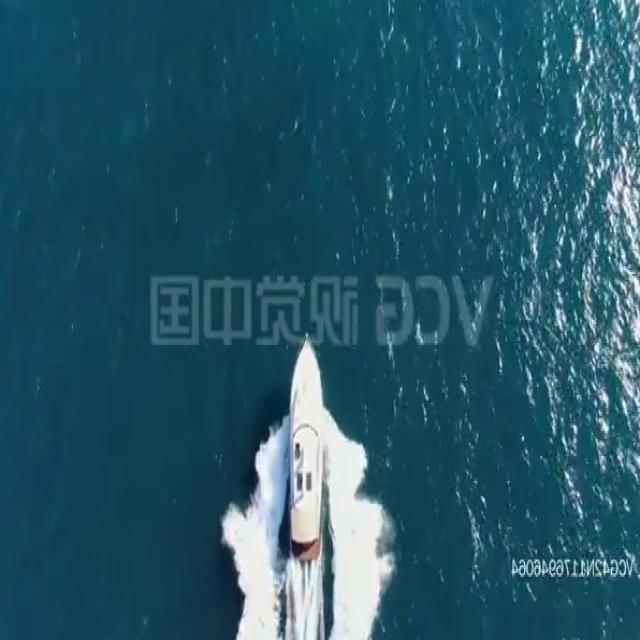houseboat: (282, 329, 325, 565)
